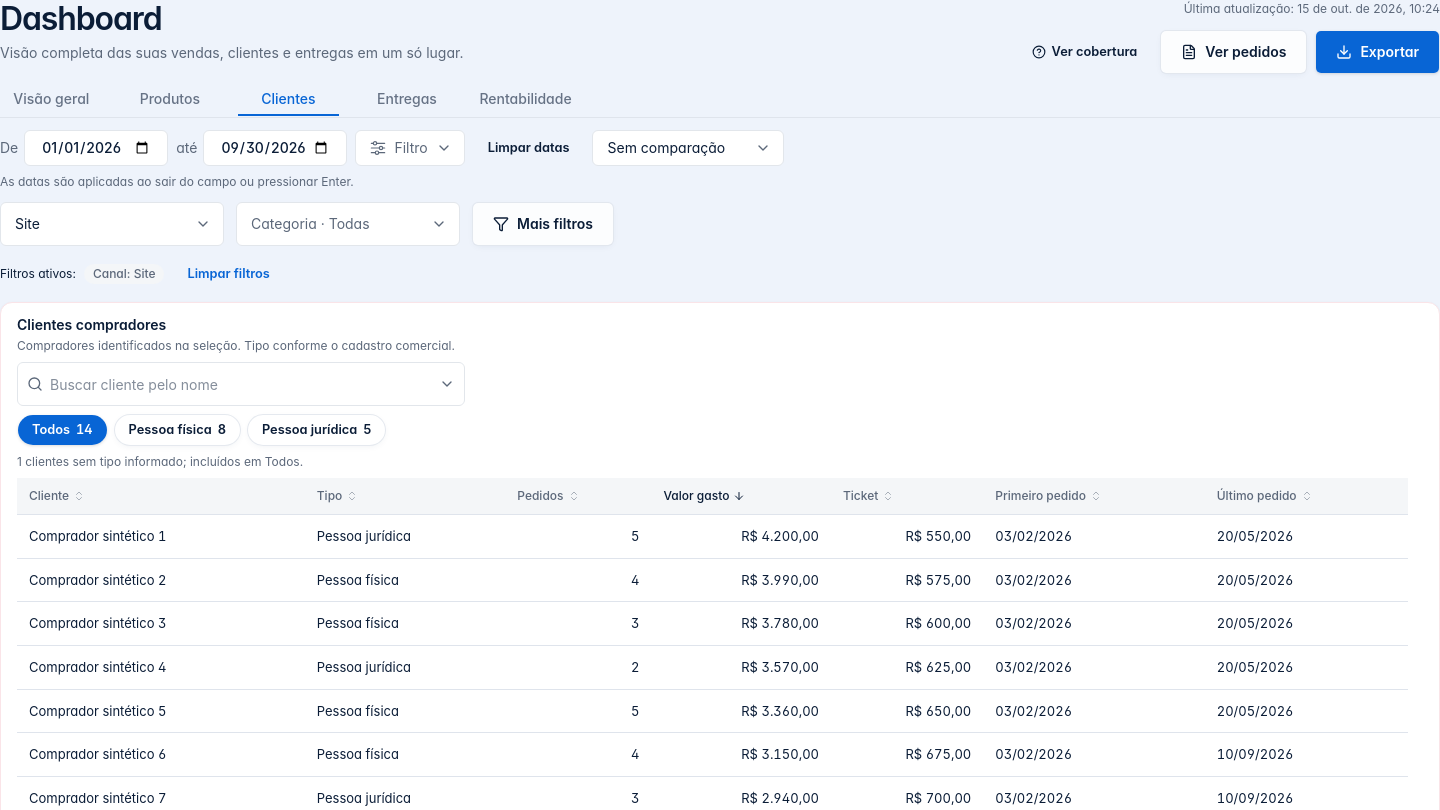
Test: busca de cliente no Dashboard › busca nome sem distinguir acentos, caixa ou espaços e consulta somente ao selecionar o ID
In the dropdown named "Cliente comprador": (241,384) [17,362,465,406], type "  COMPRADOR SINTETICO 4  "
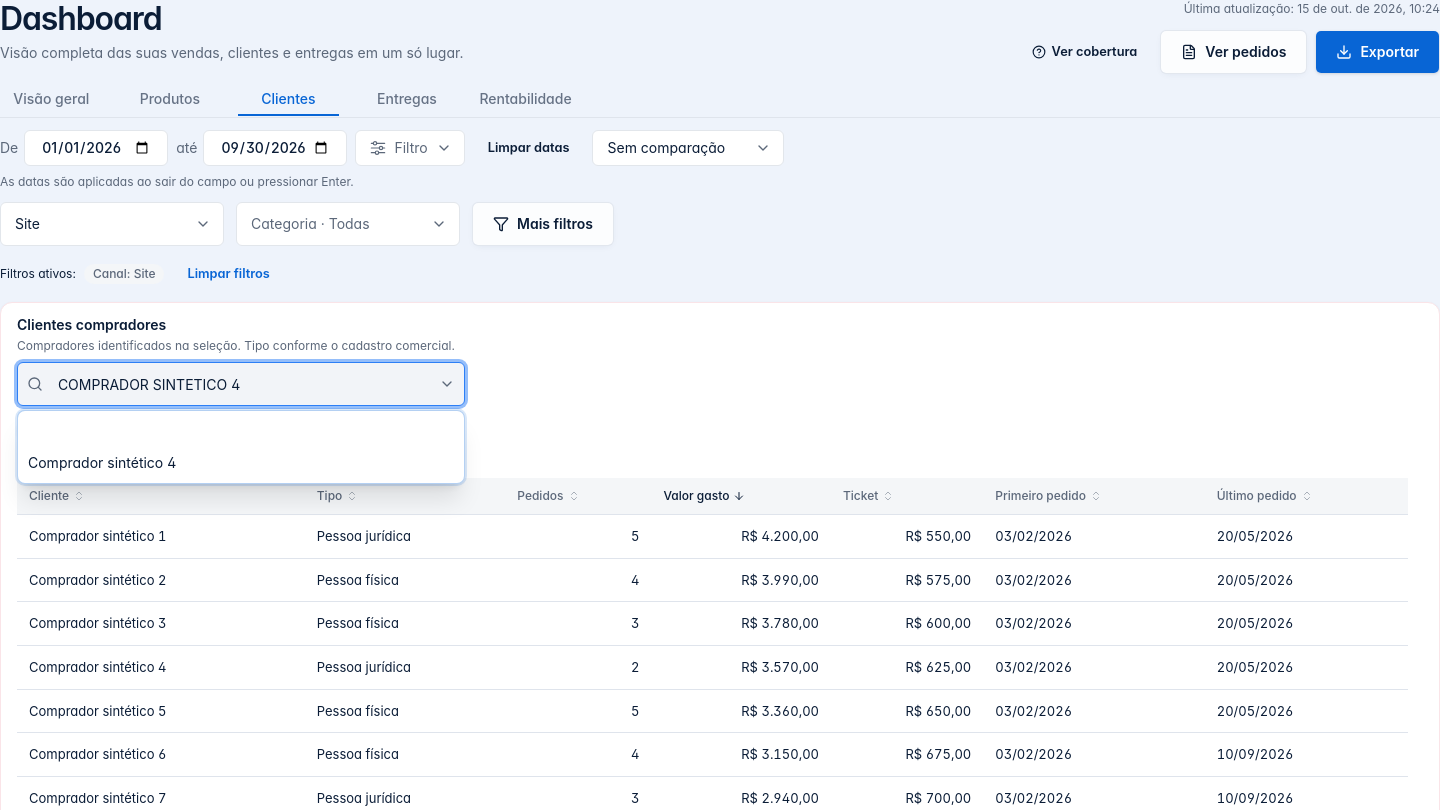
Result: the option "Comprador sintético 4" is shown
Click the option "Comprador sintético 4": (102,462) [28,454,176,471]
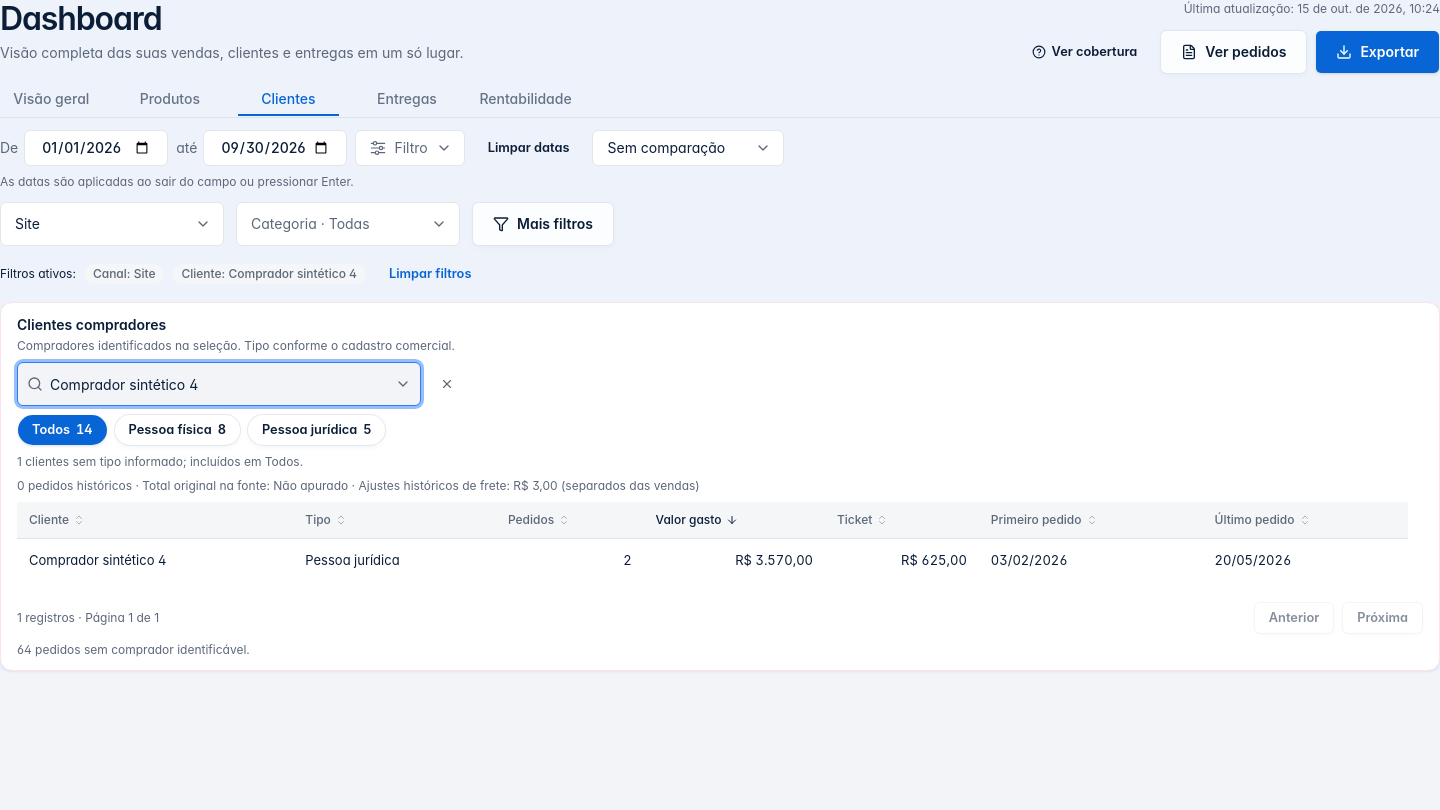
Result: the dropdown named "Cliente comprador" holds "Comprador sintético 4" at [17,362,421,406]
Result: the cell "Comprador sintético 5" is gone
